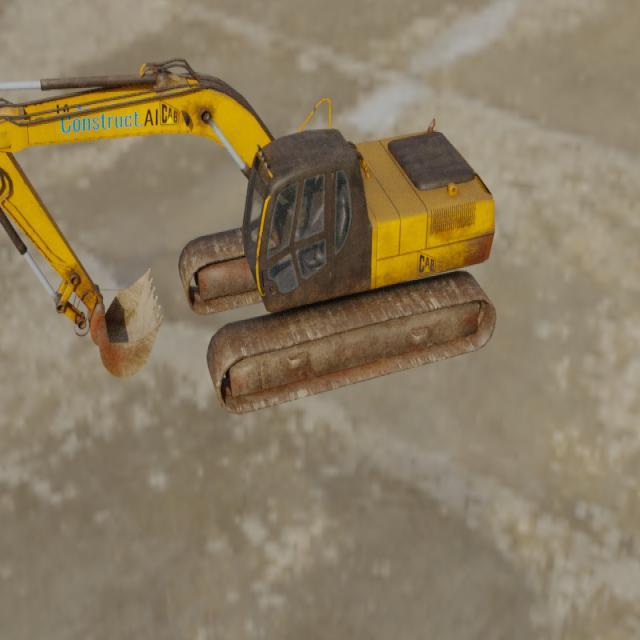excavator: (0, 56, 498, 415)
